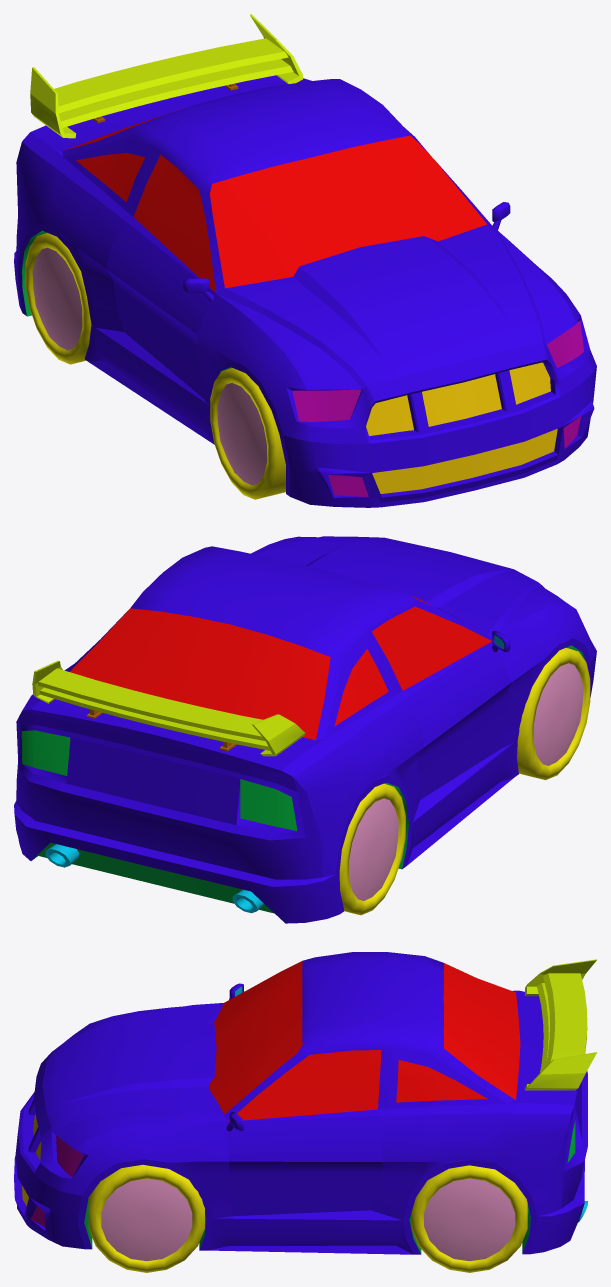
The model's file is 06_SteinBarracuda_ColorCoded.fbx.
3 views of the same model, one above another, from view 1: azimuth 30°, elevation 25°; view 2: azimuth 150°, elevation 25°; view 3: azimuth 270°, elevation 25° (orthographic). The views are drawn at different scales.
Parts seen in each view (by area): view 1: Body, Spoiler, tireFrontR, tireBackR; view 2: Body, Spoiler, tireFrontR, tireBackR; view 3: Body, tireFrontL, tireBackL, Spoiler.
Part boxes in pixels (x1,y1,x2,y2): Body: [14, 75, 596, 507]; Spoiler: [30, 14, 302, 138]; tireFrontR: [210, 368, 285, 499]; tireBackR: [25, 233, 91, 364]; Body: [14, 536, 596, 923]; Spoiler: [32, 660, 305, 756]; tireFrontR: [517, 648, 590, 780]; tireBackR: [339, 783, 405, 915]; Body: [14, 952, 587, 1254]; tireFrontL: [88, 1164, 204, 1272]; tireBackL: [411, 1165, 527, 1272]; Spoiler: [525, 959, 596, 1090].
Size of the model in its own units: 63.34 by 112 by 46.3.
